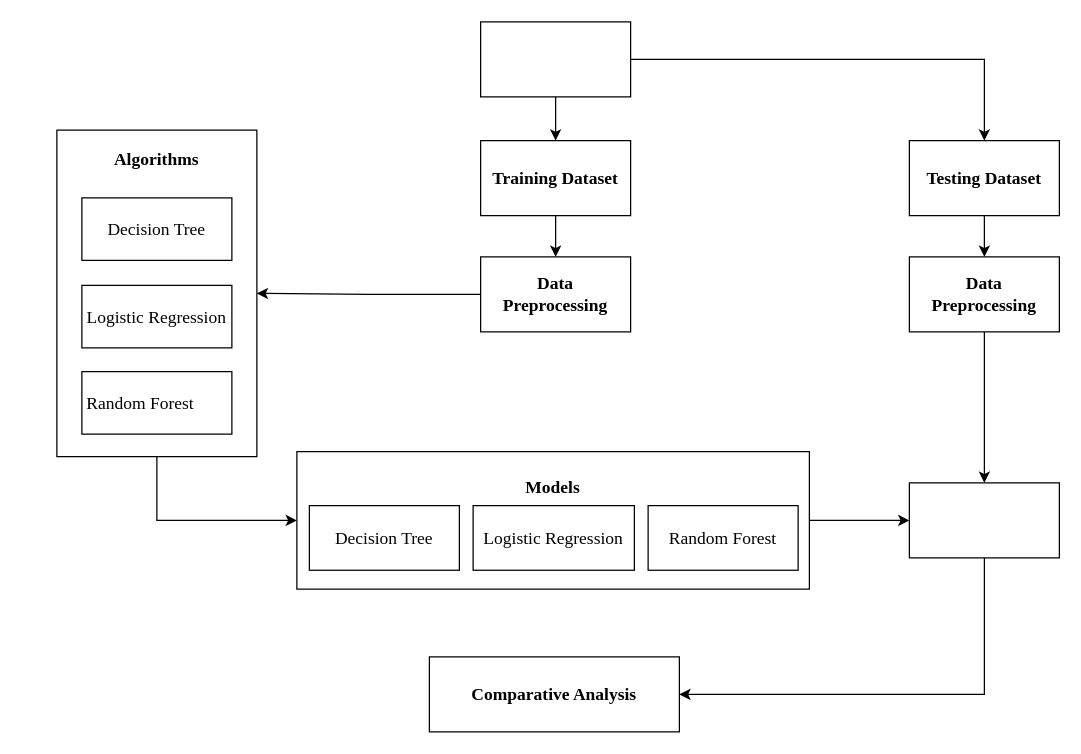
This 1081x754 diagram has some shape labels left out. The centre of each missing label's shape, as x and y in pixels:
Model Validation: [983,520]
Transaction Dataset: [555,59]
